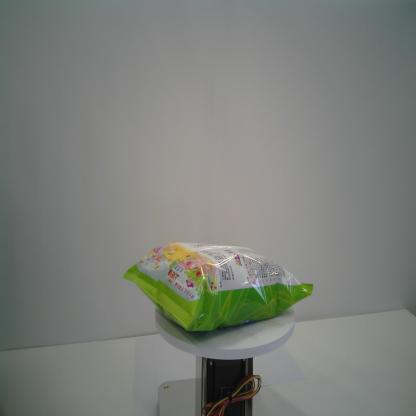Puffed Food: (122, 240, 315, 334)
